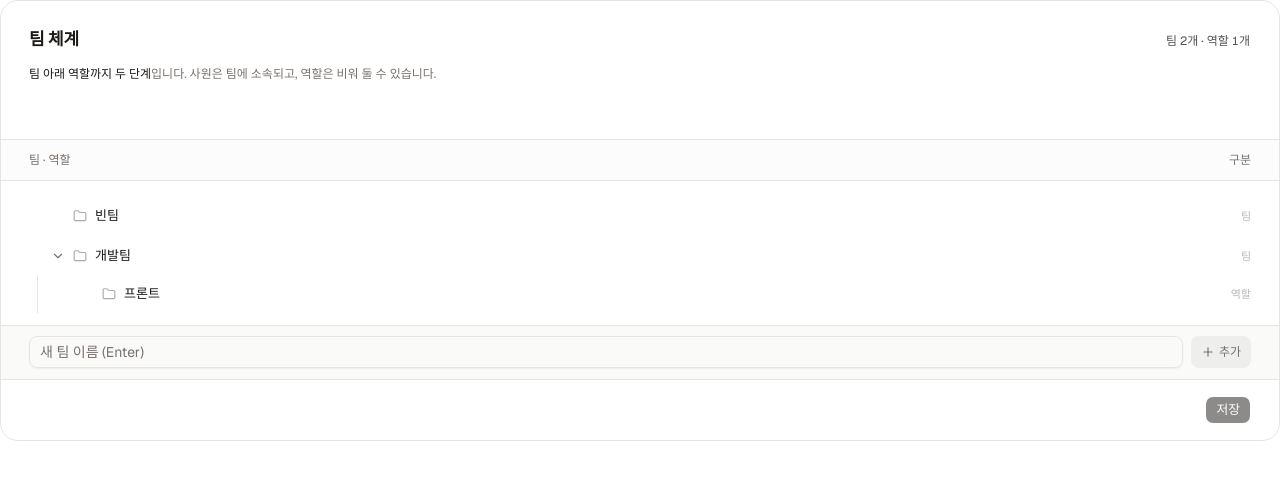
Test: 저장 실패 문구 › 전송이 거부돼도 화면이 죽지 않고 그 자리에 남는다
Type "영업팀" into the field with placeholder "새 팀 이름 (Enter)" at (606, 352), box [29,336,1183,368]
Then press Enter
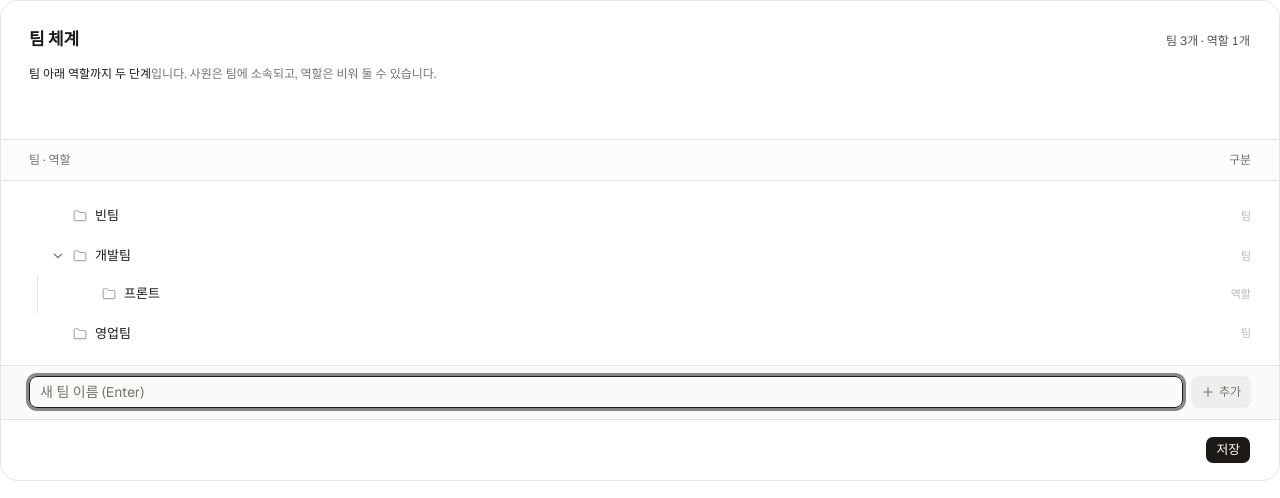
Click the button "저장" at (1228, 450), box [1206,436,1251,464]
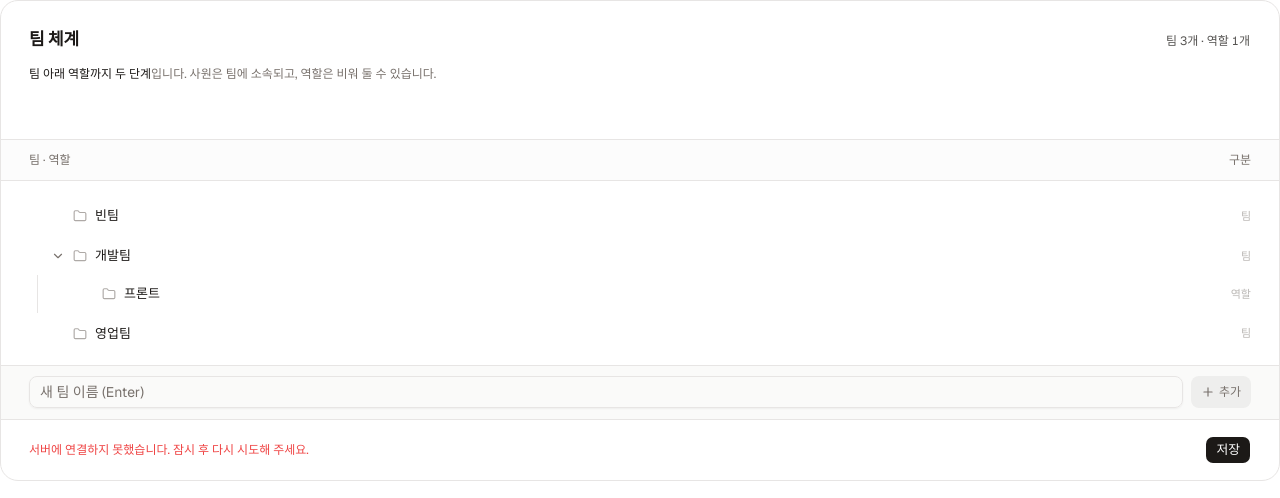
Check: the button "영업팀" is shown, box [95,324,1233,344]
Check: the text "서버에 연결하지 못했습니다. 잠시 후 다시 시도해 주세요." is shown, box [29,442,309,458]
